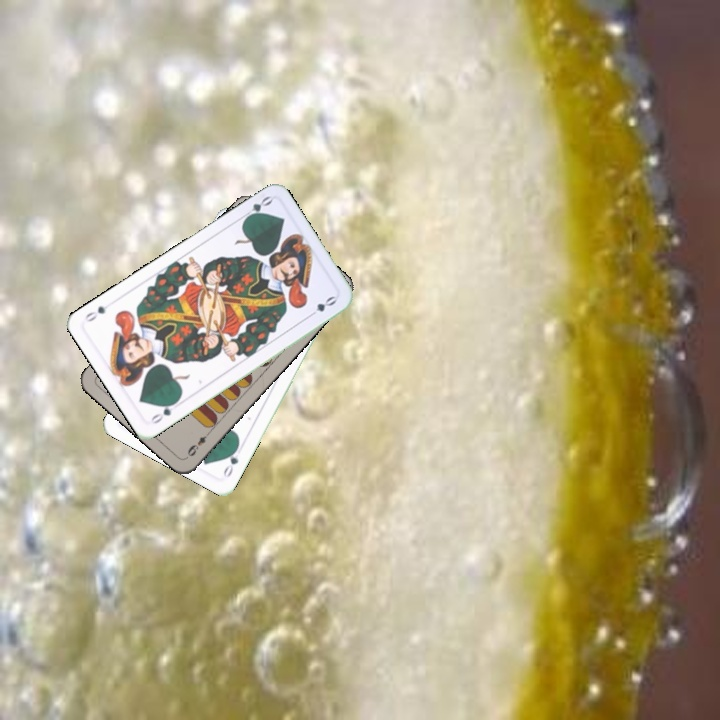E9: (183, 427, 213, 460)
GO: (238, 192, 275, 223), (147, 396, 181, 427), (219, 442, 241, 480)
